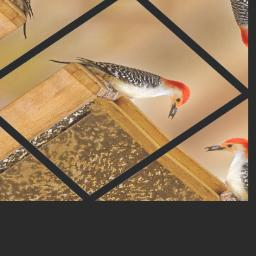Woodpecker: (48, 18, 203, 142)
